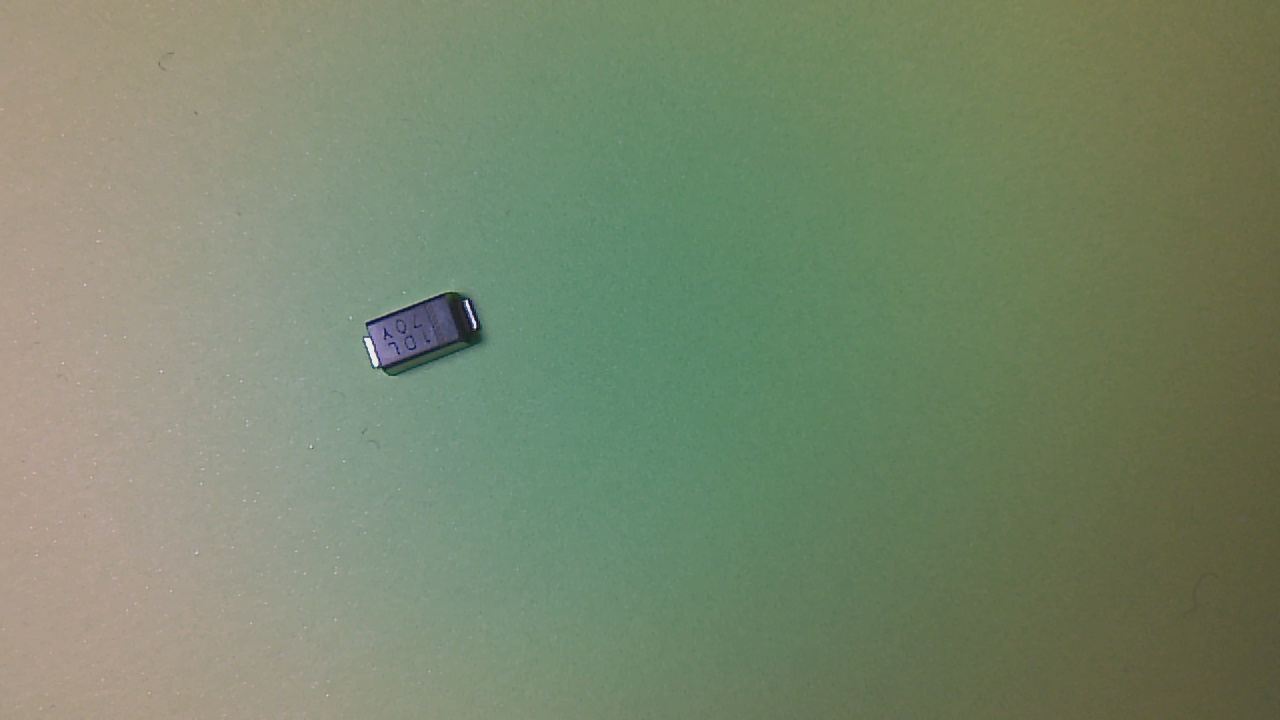Diode: (368, 293, 488, 381)
